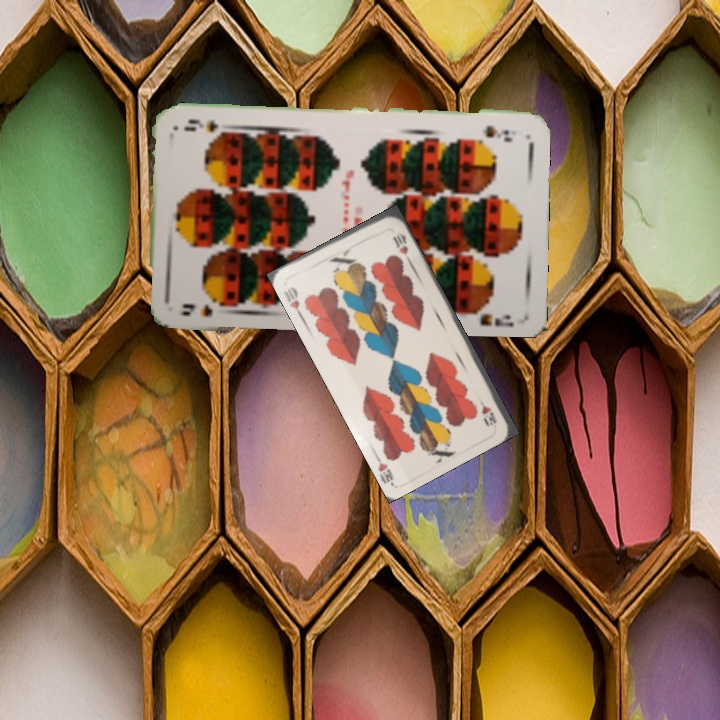H10: (473, 391, 499, 427), (280, 283, 304, 319)
S9: (177, 296, 231, 319), (480, 121, 514, 142)
